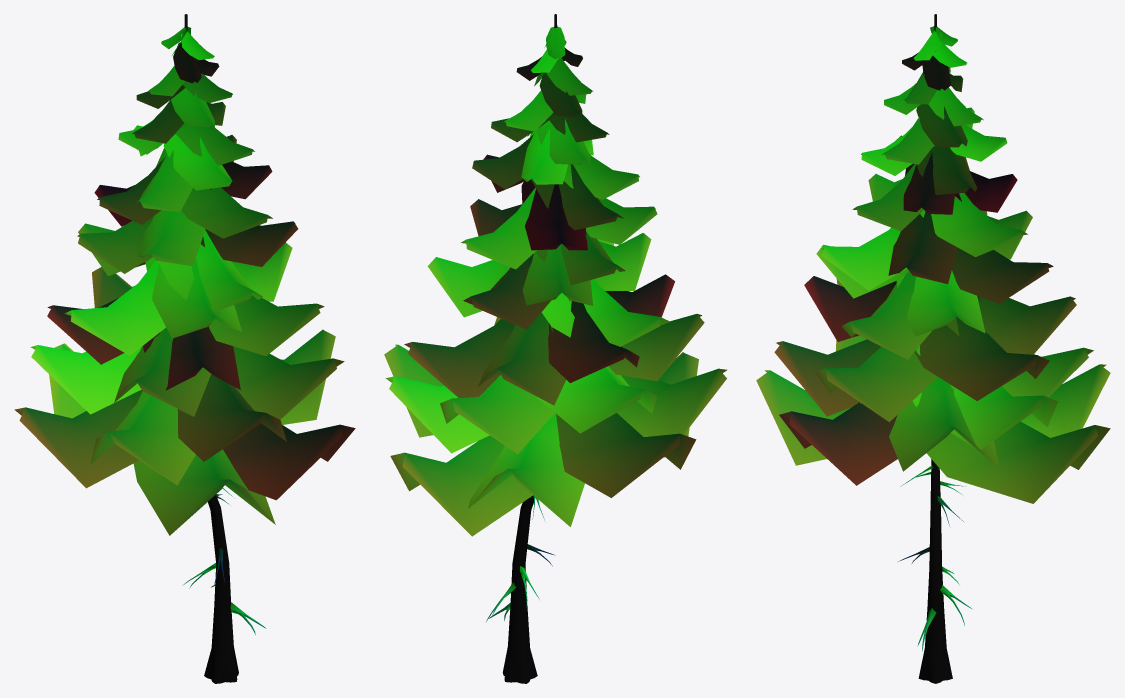
Rendered from M_Pine_6_14.fbx.
3 views of the same model, side by side, from view 1: azimuth 30°, elevation 25°; view 2: azimuth 150°, elevation 25°; view 3: azimuth 270°, elevation 25° (orthographic). The views are drawn at different scales.
Parts seen in each view (by area): view 1: Tree_14; view 2: Tree_14; view 3: Tree_14.
Part boxes in pixels (x1=…): Tree_14: x1=14, y1=14, x2=355, y2=683; Tree_14: x1=384, y1=14, x2=726, y2=683; Tree_14: x1=756, y1=14, x2=1110, y2=683.
Bounding box in the file's own units: 1016 × 2109 × 1051.
